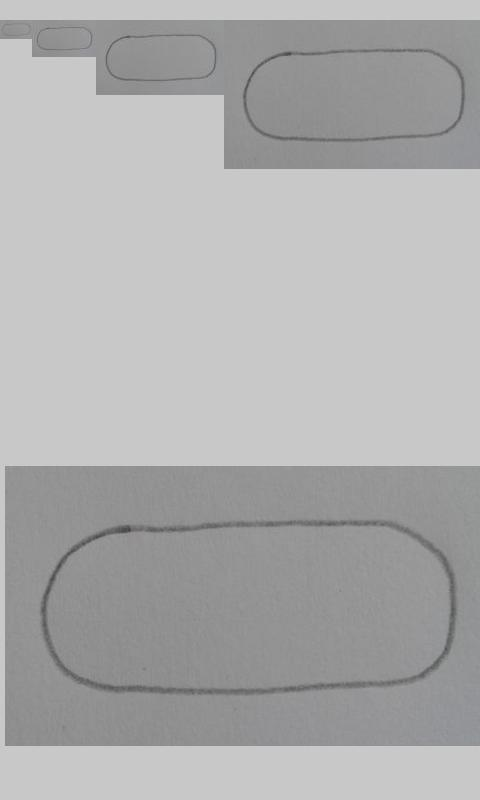chip: (35, 518, 460, 697), (242, 46, 467, 143), (105, 33, 217, 81), (36, 26, 93, 51), (1, 23, 32, 37)
